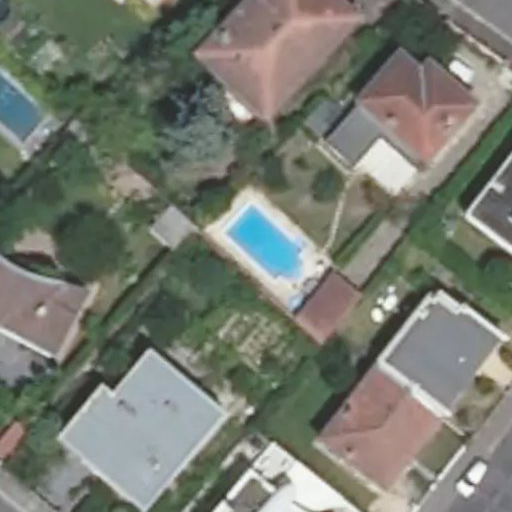pool: (216, 230, 303, 261)
